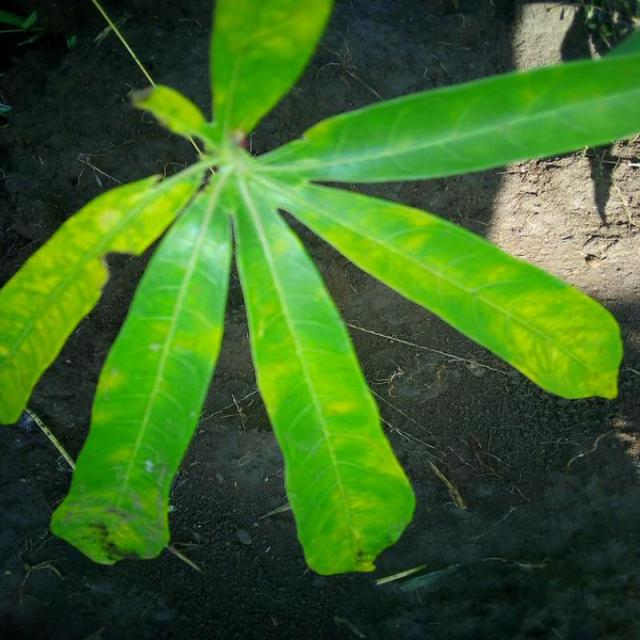cassava leaf: (0, 0, 638, 576), (231, 172, 417, 576), (48, 183, 233, 566)
